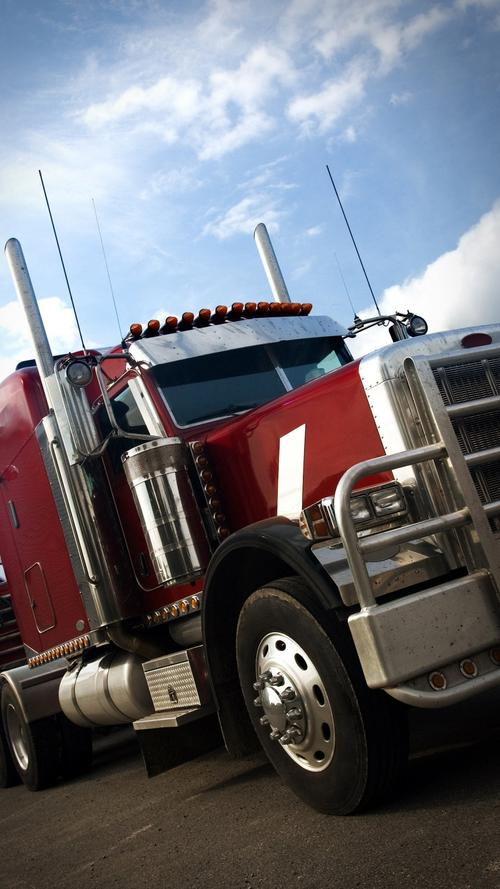卡车: (10, 241, 500, 806)
